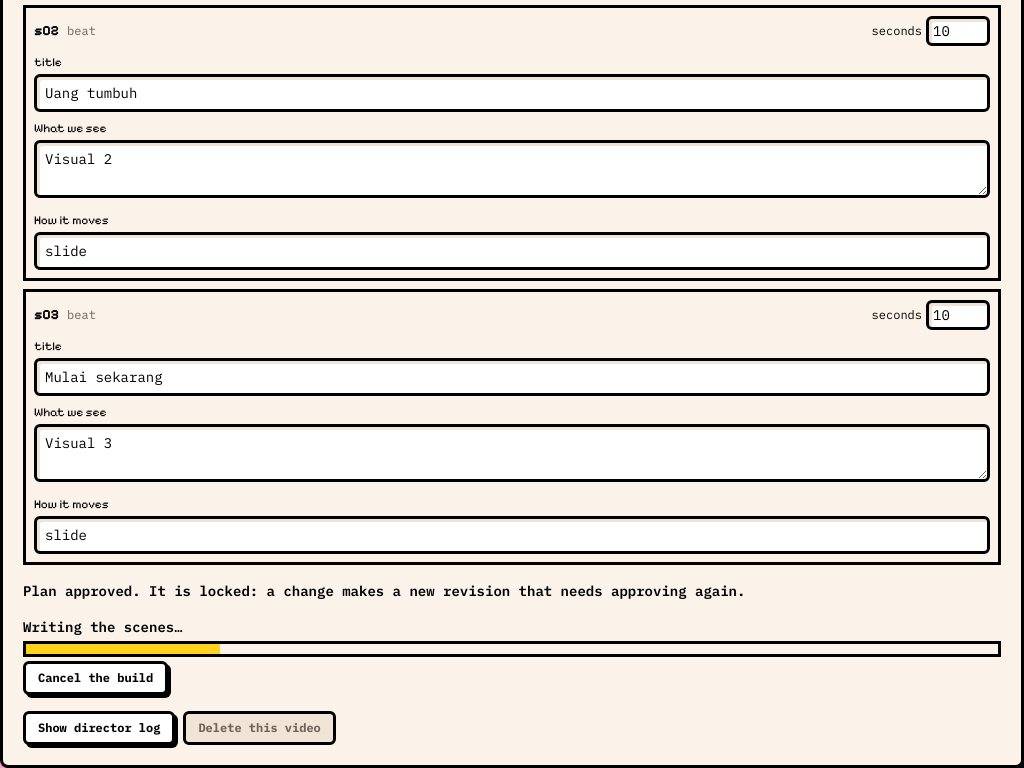
Scenario: GenerateWindow: building › a build can be cancelled while it runs
(page scrolled)
Click the button "Cancel the build": (96, 678) [23,661,168,695]
(page scrolled)
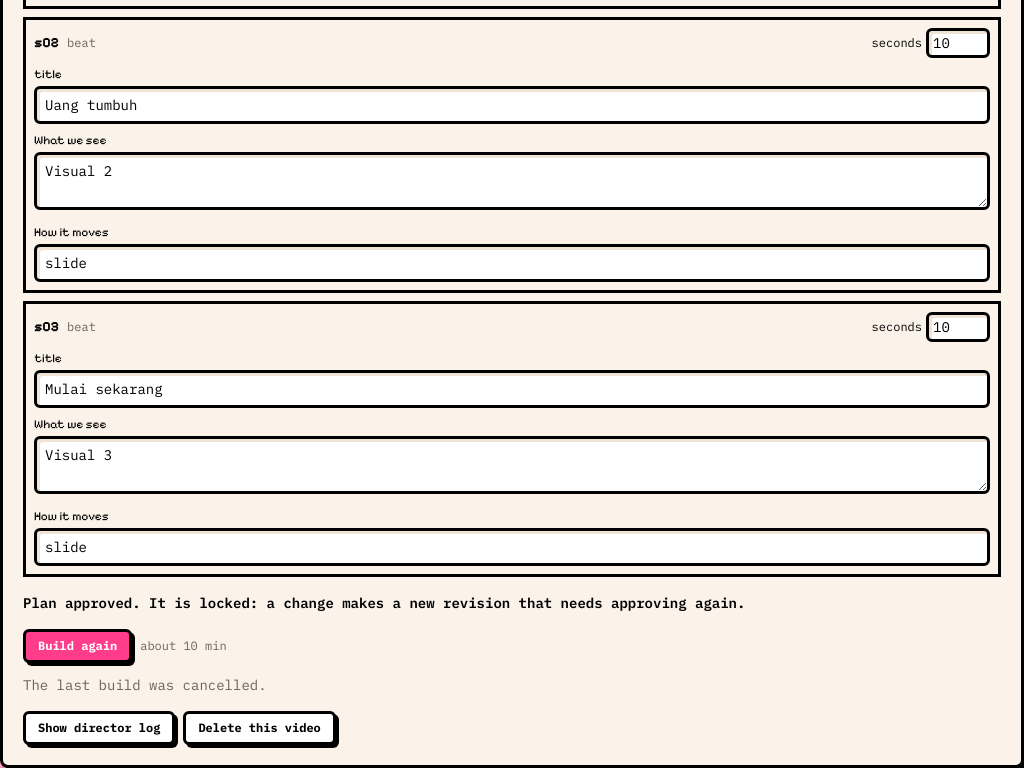
Now the text "The last build was cancelled." is shown, box [23,676,267,694]
